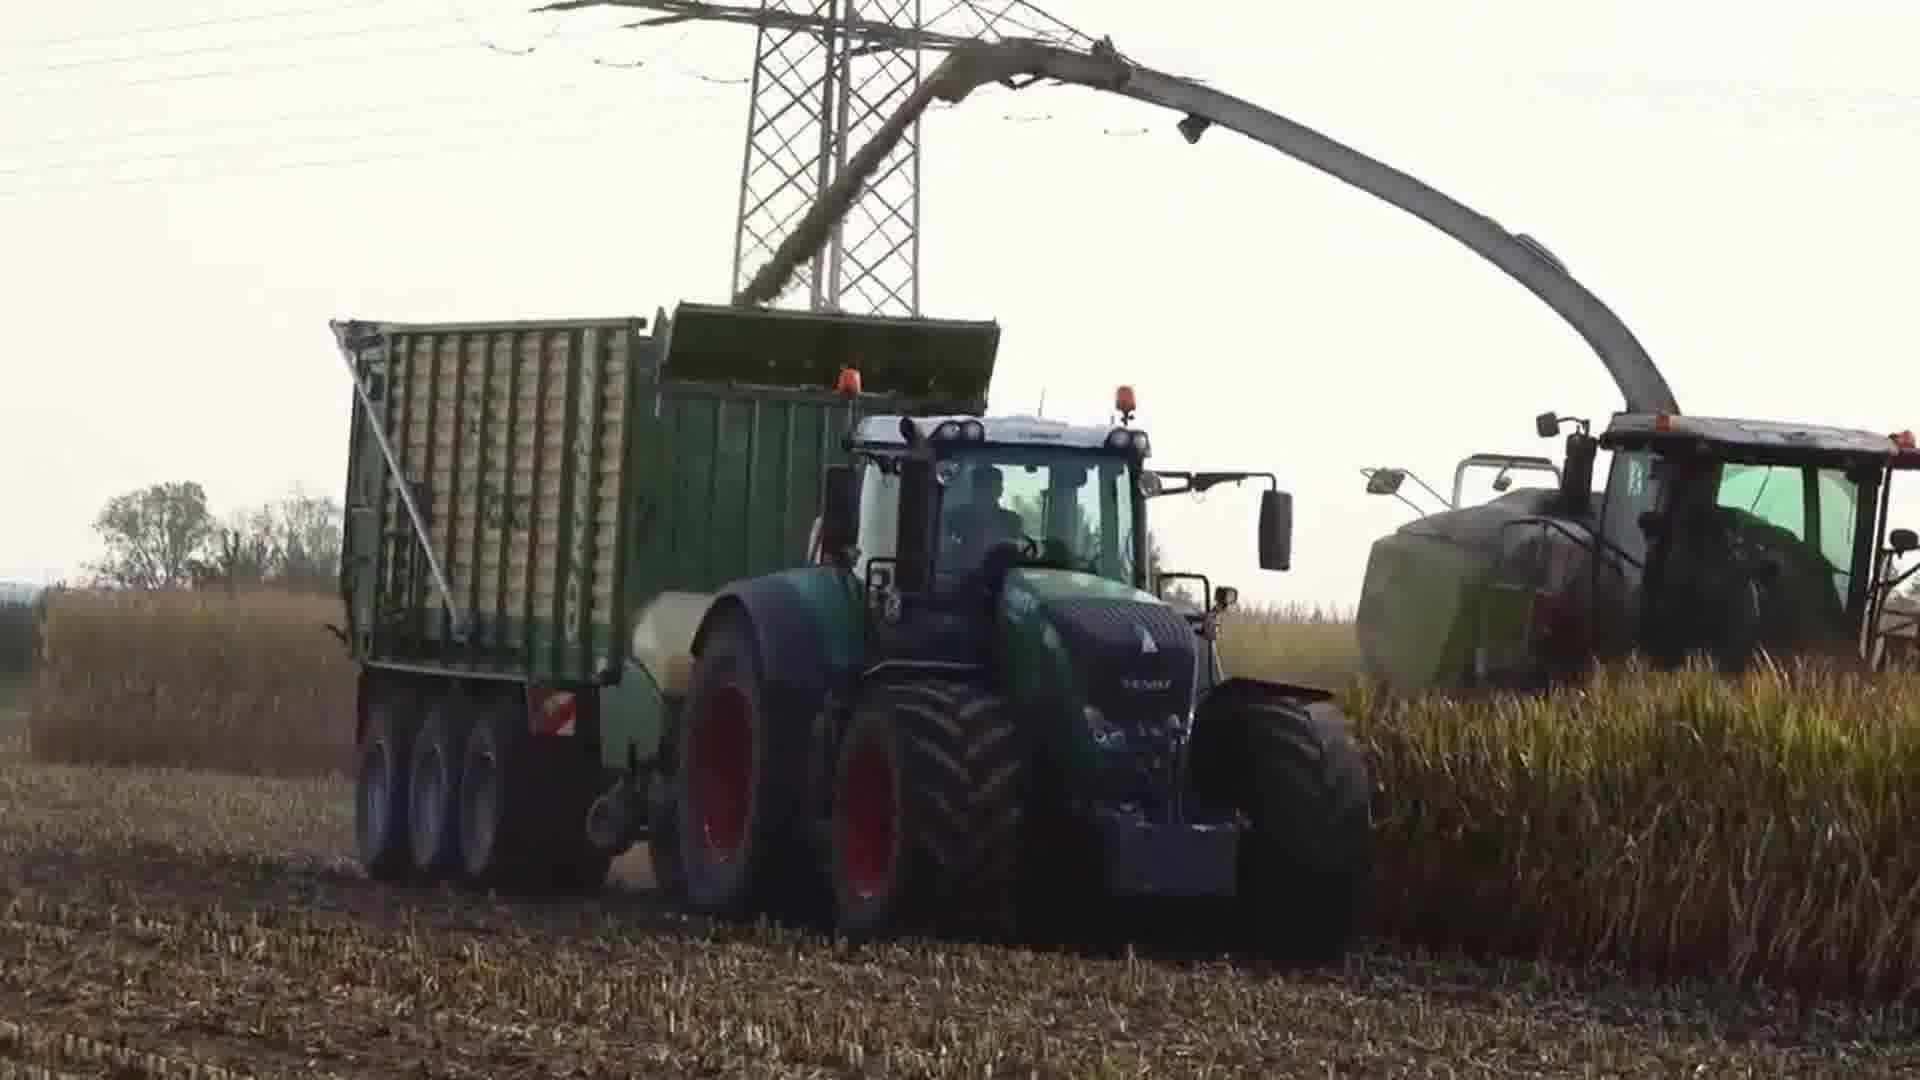combine harvester: (922, 30, 1920, 731)
tractor: (667, 361, 1382, 976)
trailer: (320, 295, 1006, 909)
